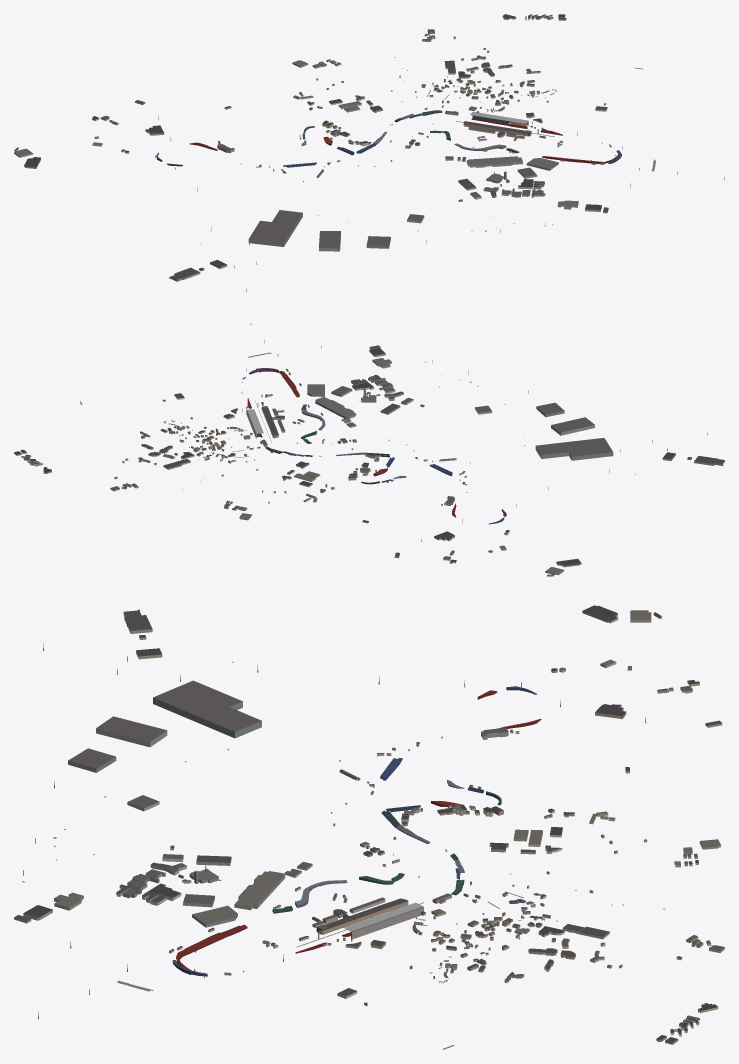
Rendered from scenery.glb.
3 renders of one model, top to bottom at view 1: azimuth 30°, elevation 25°; view 2: azimuth 150°, elevation 25°; view 3: azimuth 270°, elevation 25°, orthographic. The views are drawn at different scales.
Visible parts, largest first — view 1: chunk_16_16, chunk_17_15, chunk_13_16, chunk_15_14, chunk_17_14, chunk_16_15, chunk_17_13, chunk_17_16, chunk_16_17, chunk_13_17; view 2: chunk_13_16, chunk_16_16, chunk_17_15, chunk_15_14, chunk_17_14, chunk_17_13, chunk_17_16, chunk_13_17, chunk_16_15, chunk_14_17; view 3: chunk_13_16, chunk_16_16, chunk_17_15, chunk_15_14, chunk_17_14, chunk_17_13, chunk_17_16, chunk_16_15, chunk_13_17, chunk_14_17, chunk_16_17, chunk_15_13.
Boxes of the visible parts, x1,y1,x2,y2 form: chunk_16_16: [458, 156, 544, 197]; chunk_17_15: [456, 112, 577, 142]; chunk_13_16: [248, 210, 318, 246]; chunk_15_14: [303, 105, 392, 155]; chunk_17_14: [441, 80, 534, 112]; chunk_16_15: [412, 127, 519, 161]; chunk_17_13: [432, 55, 494, 87]; chunk_17_16: [526, 142, 618, 170]; chunk_16_17: [511, 183, 578, 226]; chunk_13_17: [319, 231, 340, 251]; chunk_13_16: [524, 438, 613, 460]; chunk_16_16: [315, 379, 403, 418]; chunk_17_15: [223, 391, 284, 442]; chunk_15_14: [296, 452, 394, 484]; chunk_17_14: [176, 425, 252, 456]; chunk_17_13: [138, 445, 228, 469]; chunk_17_16: [258, 368, 324, 397]; chunk_13_17: [551, 417, 594, 435]; chunk_16_15: [277, 404, 356, 444]; chunk_14_17: [475, 390, 564, 417]; chunk_13_16: [153, 680, 261, 750]; chunk_16_16: [145, 855, 285, 910]; chunk_17_15: [273, 898, 423, 961]; chunk_15_14: [386, 791, 528, 852]; chunk_17_14: [412, 905, 529, 966]; chunk_17_13: [522, 901, 609, 962]; chunk_17_16: [169, 905, 275, 970]; chunk_16_15: [272, 850, 404, 913]; chunk_13_17: [96, 716, 167, 747]; chunk_14_17: [54, 748, 159, 811]; chunk_16_17: [22, 870, 159, 910]; chunk_15_13: [528, 808, 647, 846].
Size of the model in its own units: 3266 by 87.85 by 2253.
